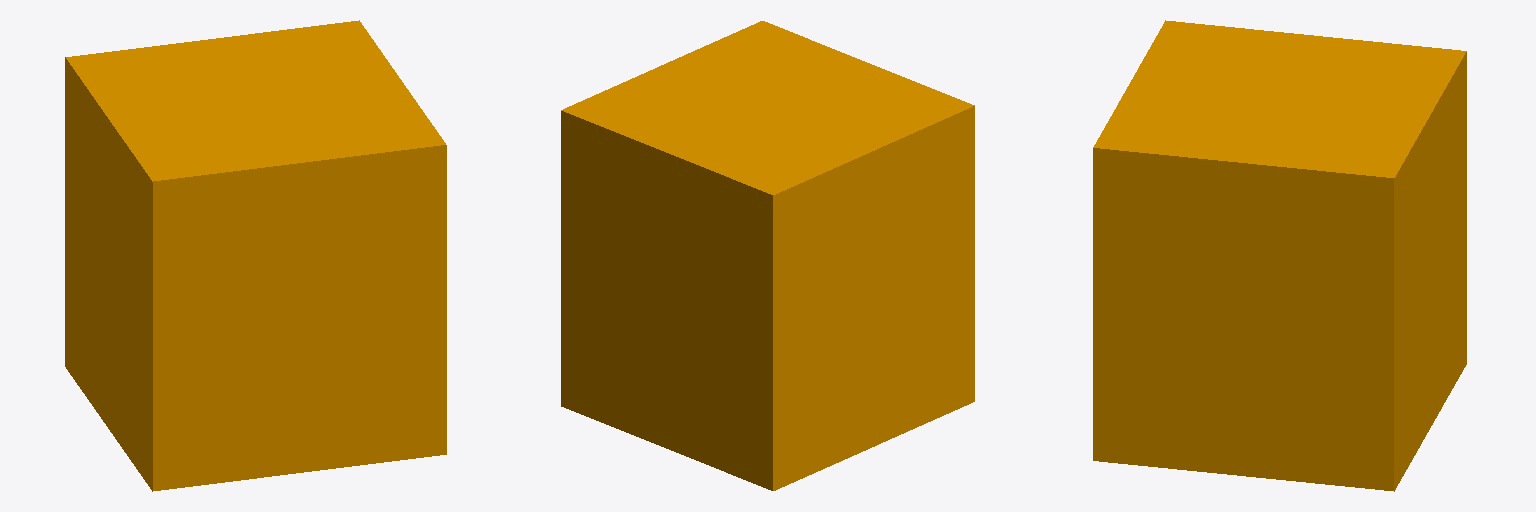
robot.urdf — largebox:
<?xml version="1.0"?>
<robot name="largebox">
  <link name="largebox">
    <visual>
      <origin pos="0 0.005 -0.0022" rpy="0 0 -0.23561945" />
      <geometry>
        <box size="0.31 0.31 0.3456" />
      </geometry>
    </visual>
    <collision>
      <origin pos="0 0.005 -0.0022" rpy="0 0 -0.23561945" />
      <geometry>
        <box size="0.31 0.31 0.3456" />
      </geometry>
    </collision>
    <inertial>
      <mass value="0.3" />
    </inertial>
  </link>
</robot>

--- Facts derived from the render (not from the file) ---
3 views of the same robot in one strip: view 1: azimuth 30°, elevation 25°; view 2: azimuth 150°, elevation 25°; view 3: azimuth 270°, elevation 25° (orthographic).
Model largebox with 1 links and 0 joints (none), rooted at largebox, posed every joint at zero.
Visible links, largest first — view 1: largebox; view 2: largebox; view 3: largebox.
Link boxes in pixels (<box>): largebox: <box>65,20,446,491</box>; largebox: <box>561,21,974,490</box>; largebox: <box>1093,20,1466,491</box>.
Size in the robot's own frame: 0.3738 by 0.3738 by 0.3456 metres.
Geometry: primitives only (box / cylinder / sphere), no mesh files.